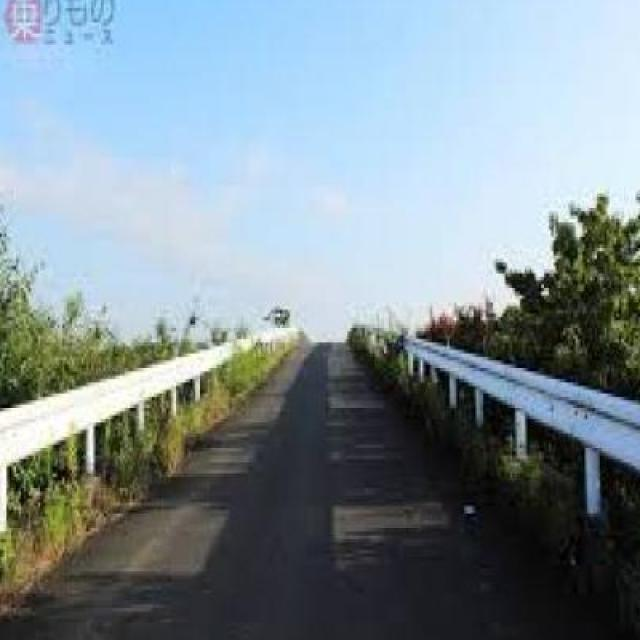Guard rail: (0, 318, 298, 540), (353, 317, 640, 544)
